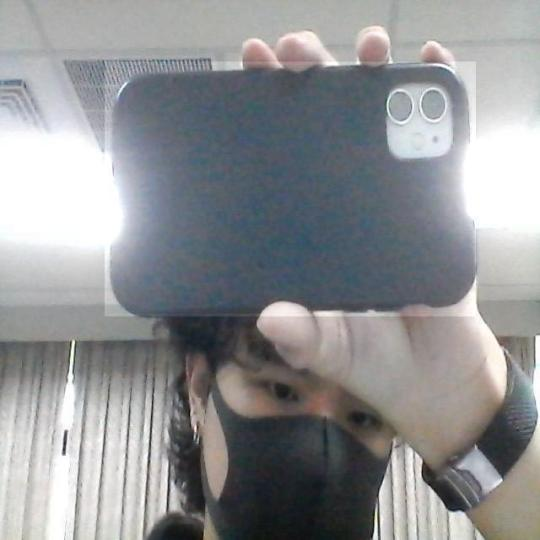phone: (108, 71, 478, 307)
